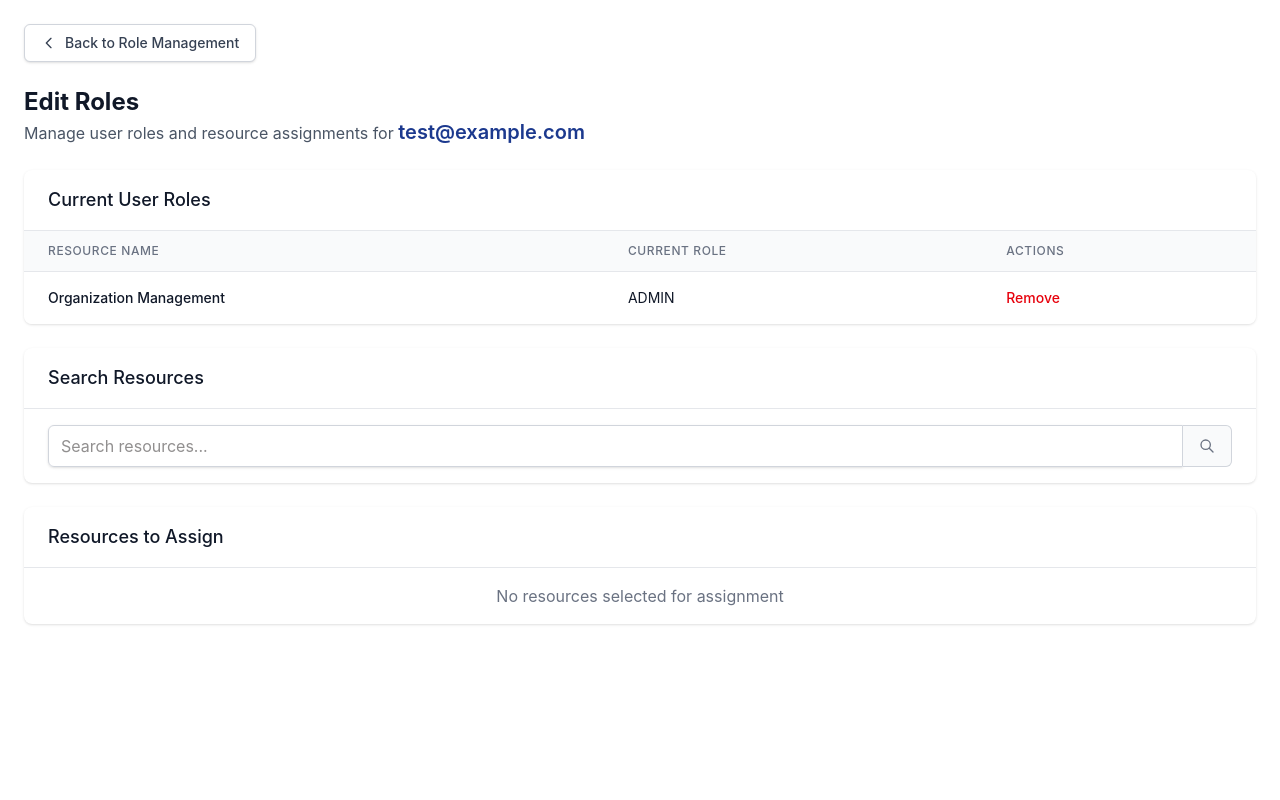
Test: EditRoles › should close modal when cancel is clicked
Expected: the heading "Current User Roles" is shown, [48,189,211,210]
# Click remove button in table
Click the button "Remove".
click(1033, 298)  # box [1006,288,1060,308]
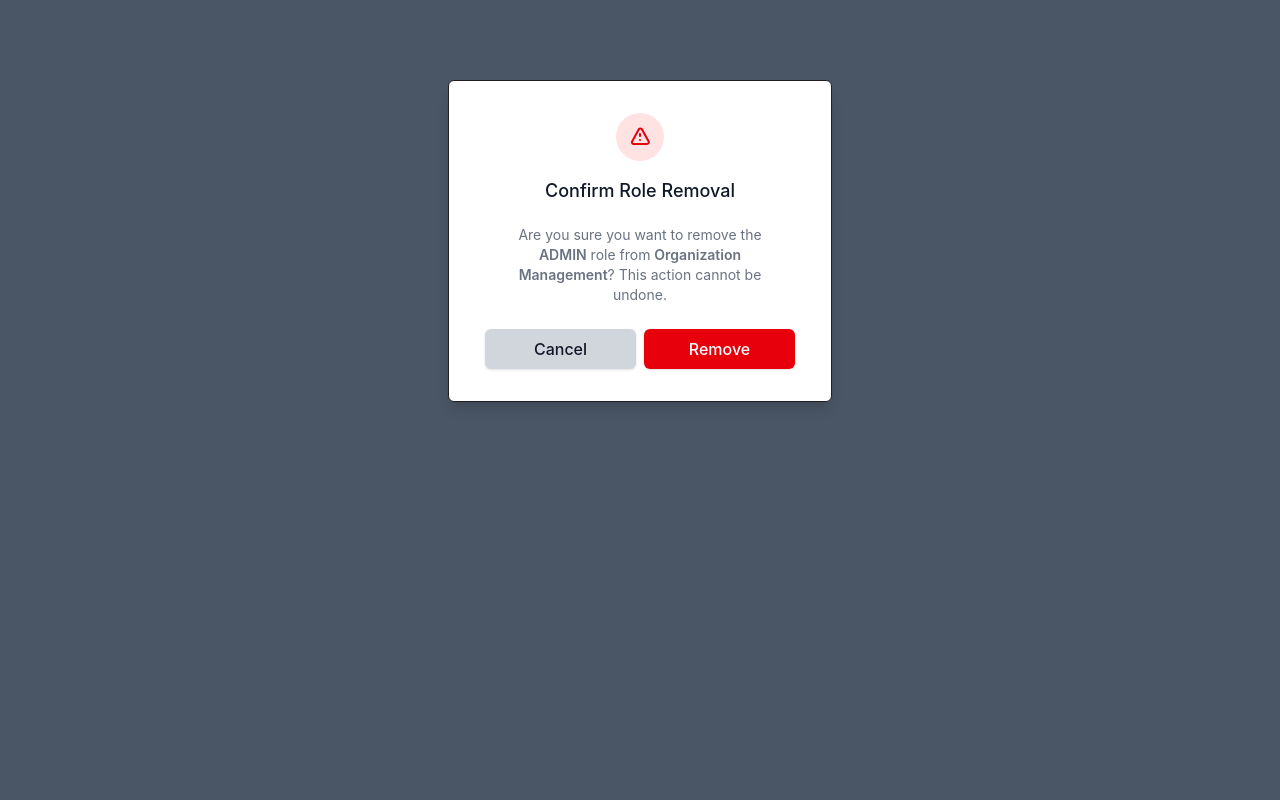
Expected: the heading "Confirm Role Removal" is shown, [545,180,735,201]
# Click cancel in modal
Click the button "Cancel".
click(560, 349)  # box [485,329,636,369]
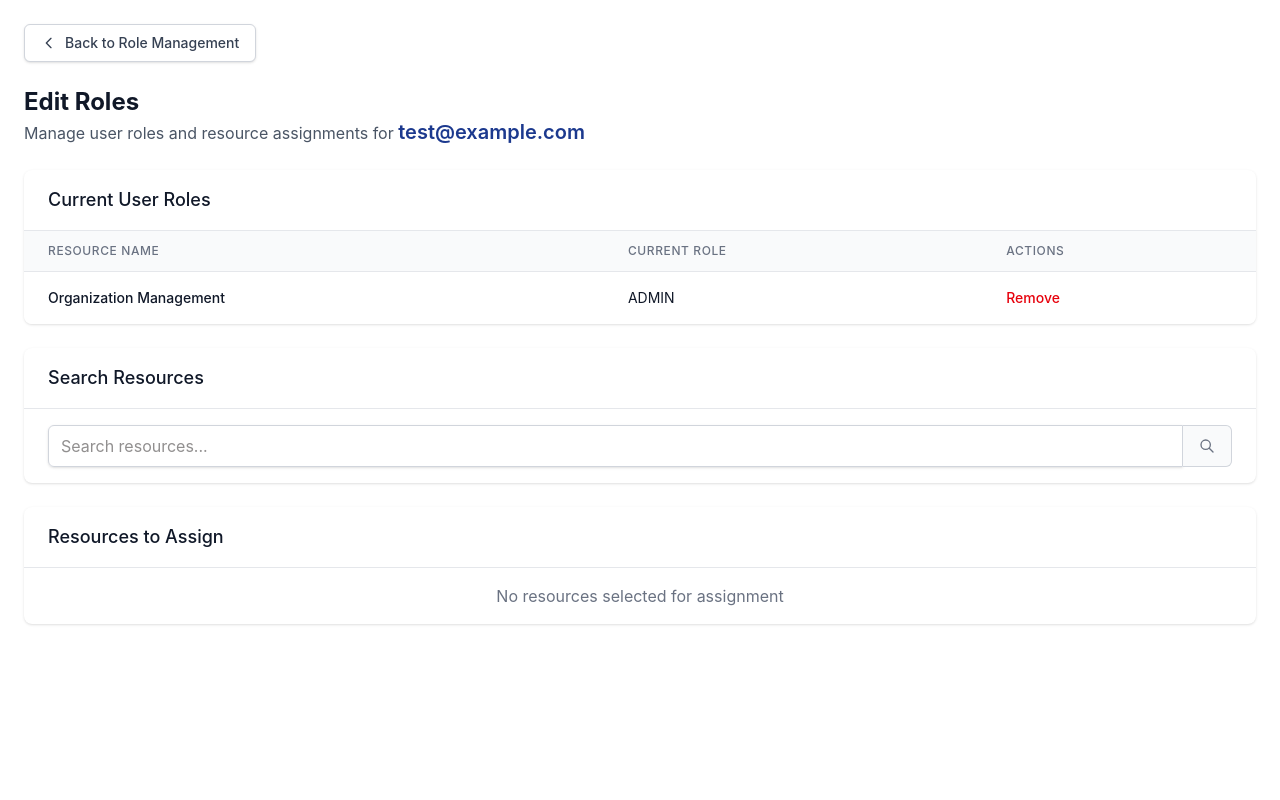
Expected: the heading "Confirm Role Removal" is gone
